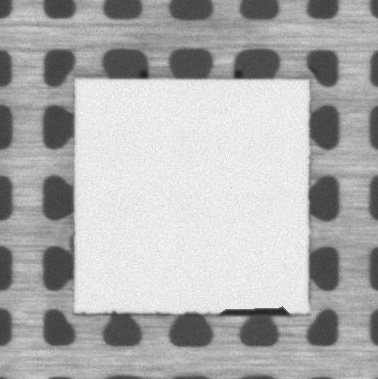DIE_BROKEN: (215, 304, 292, 317)
